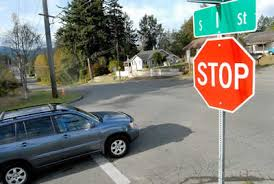stop sign: (194, 37, 257, 113)
